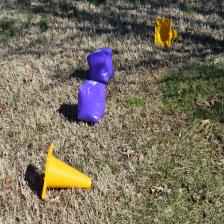cone: (42, 142, 92, 202), (154, 19, 178, 46)
cube: (77, 80, 105, 122), (86, 48, 114, 84)
